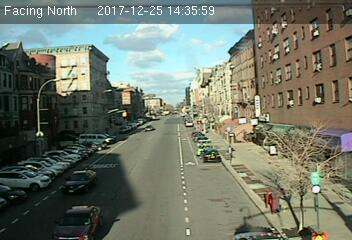car: (53, 201, 103, 240), (62, 169, 97, 193), (201, 149, 220, 161)
